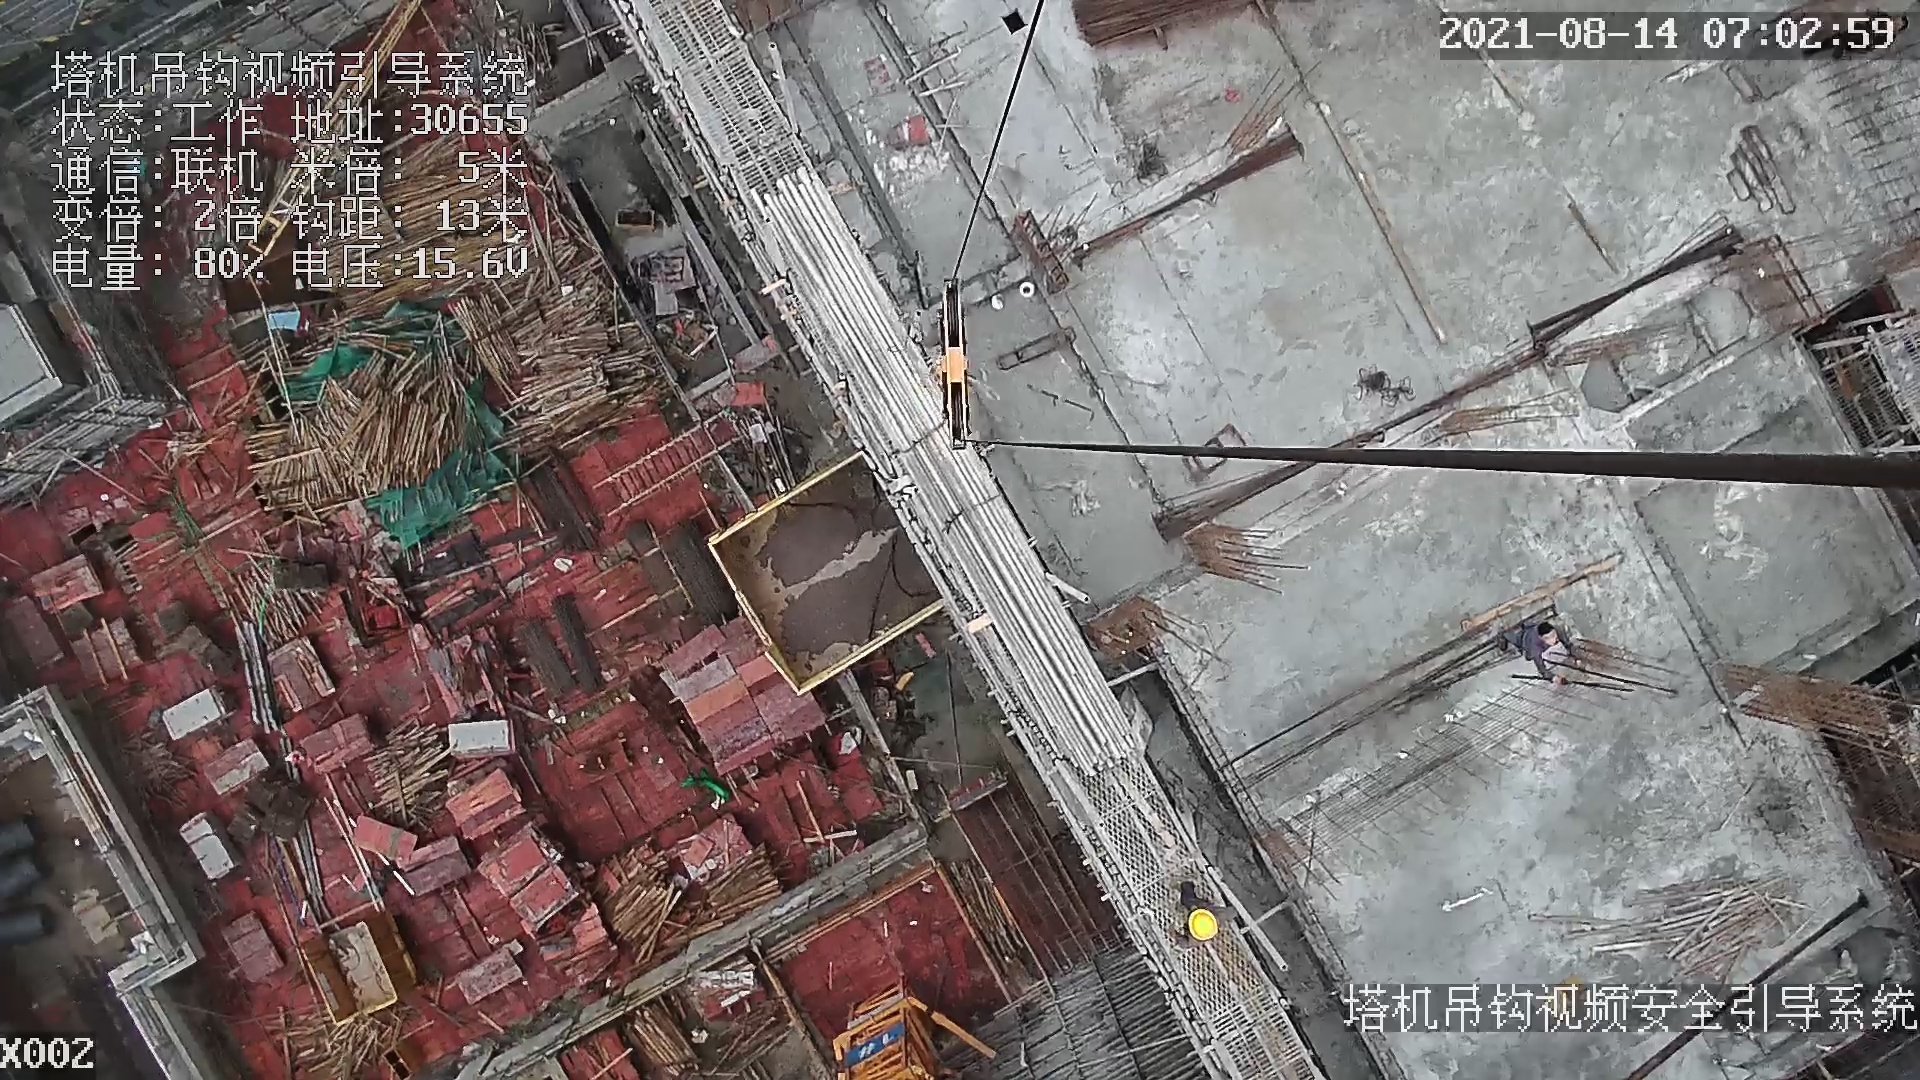helmet: (1188, 907, 1218, 940)
hook: (919, 277, 983, 450)
person: (1501, 621, 1582, 690), (1169, 878, 1237, 951)
slogan: (834, 1021, 912, 1065)
